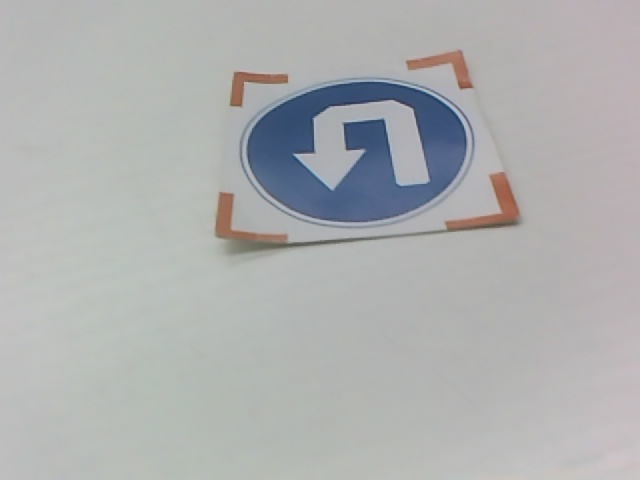turn_around: (206, 53, 529, 243)
